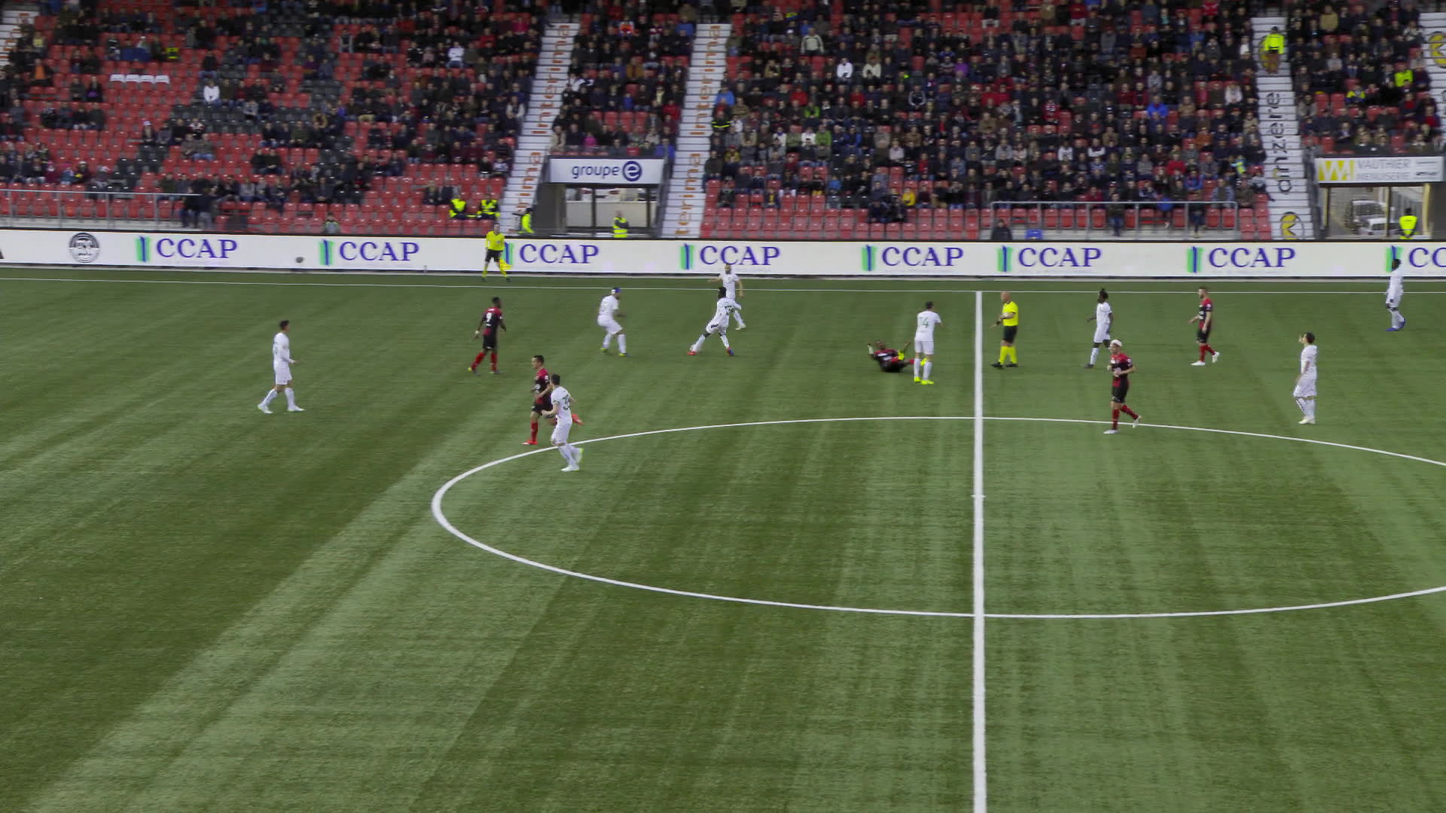ball: (690, 344, 701, 352)
player: (519, 354, 584, 441), (686, 284, 743, 355), (548, 373, 589, 470), (257, 318, 299, 412), (1100, 338, 1139, 433), (465, 297, 505, 375), (1285, 332, 1318, 423), (1082, 288, 1115, 370), (1187, 287, 1219, 367), (911, 301, 941, 384), (704, 261, 740, 328), (592, 288, 624, 358), (1377, 259, 1406, 330), (865, 340, 923, 373)
referee: (987, 291, 1016, 368), (477, 219, 503, 283)
